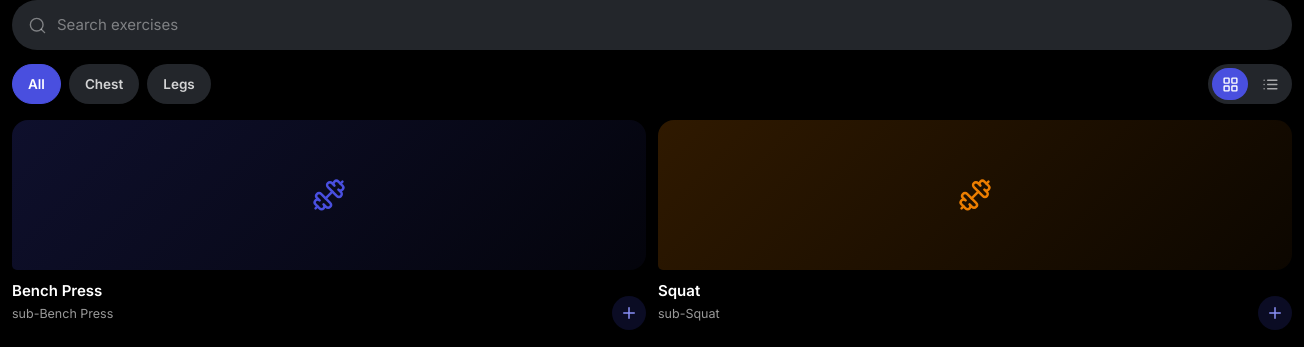
Scenario: ExercisePickerList › filters by debounced search
Type "squat" into the search field with placeholder "Search exercises".
click(666, 25); type("squat")  # box [57,14,1276,36]
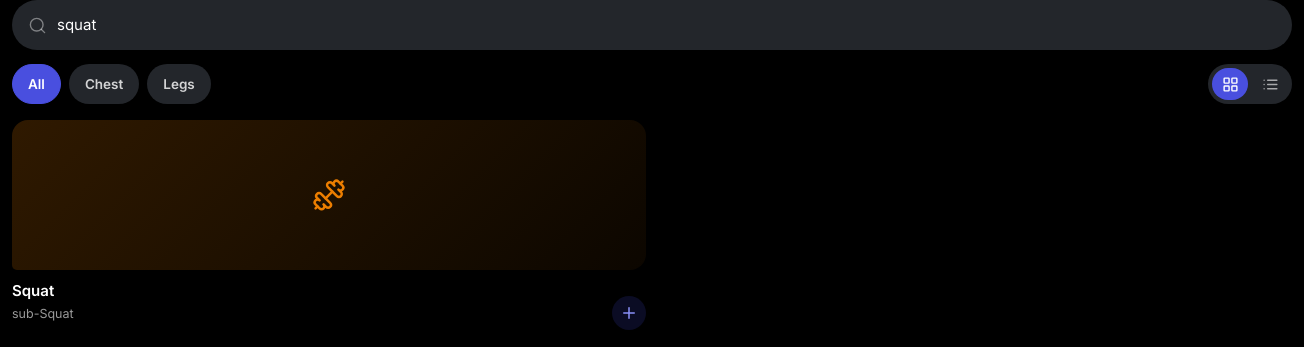
Expected: the text "Squat" is shown, [12,281,54,300]
Expected: the button "Bench Press" is gone
